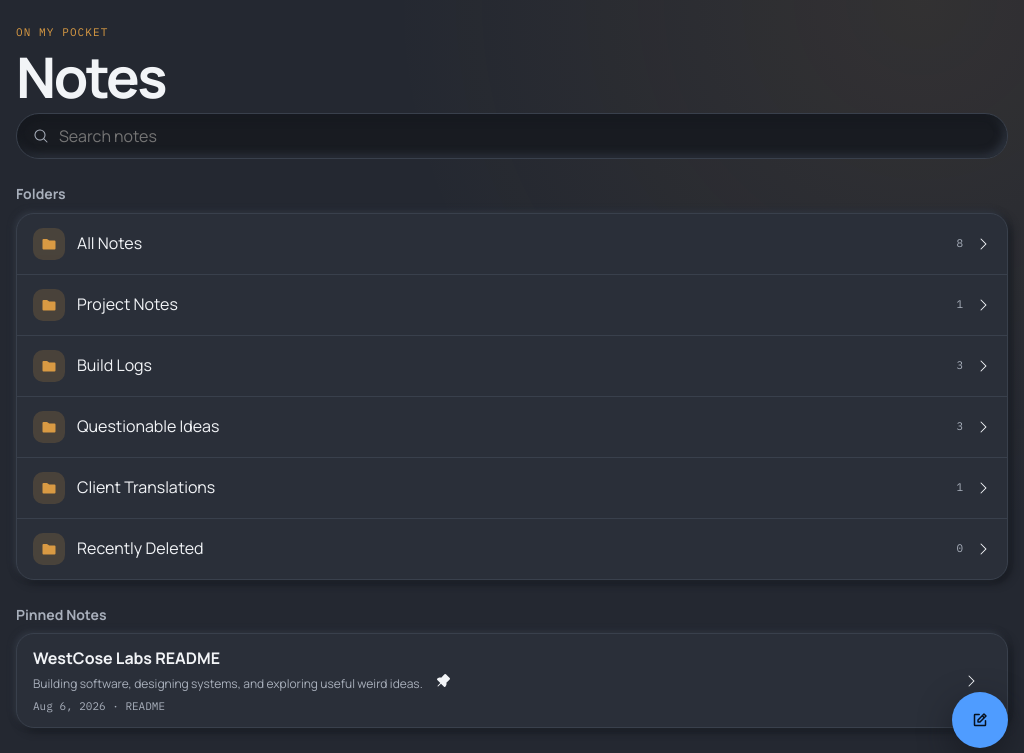
Scenario: Notes applications › reveals the hidden note through an intentional search
Check: the text "Passwords that are definitely not passwords" is not shown
Type "passwords" into the search field labelled "Search notes". click: (524, 136)
box: [57,114,991,158]
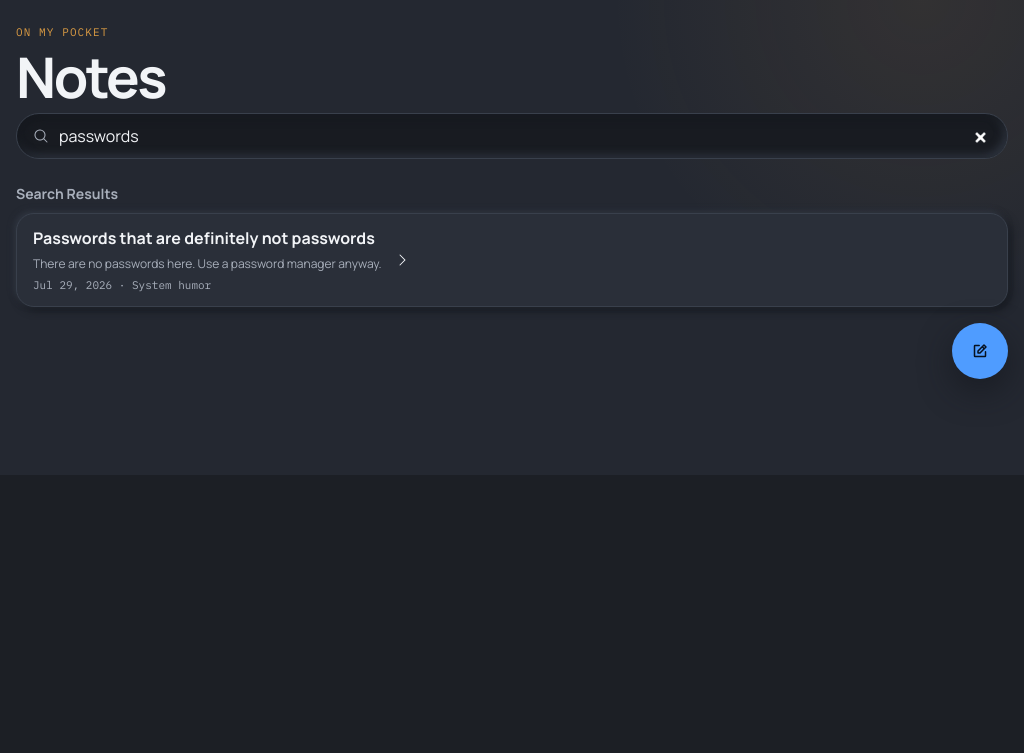
Check: the text "Passwords that are definitely not passwords" is shown, box [33,226,382,250]
